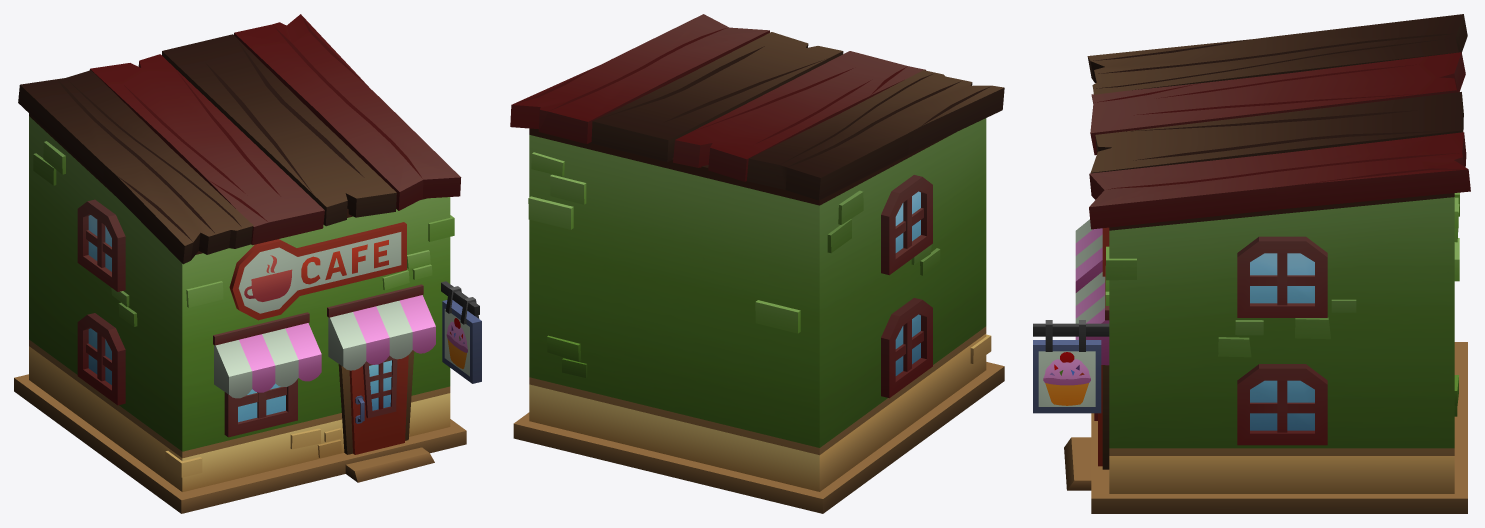
Rendered from Shop_Cafe.fbx.
3 renders of one model, left to right at view 1: azimuth 30°, elevation 25°; view 2: azimuth 150°, elevation 25°; view 3: azimuth 270°, elevation 25°, orthographic. The views are drawn at different scales.
Parts seen in each view (by area): view 1: Shop_Cafe; view 2: Shop_Cafe; view 3: Shop_Cafe.
Part boxes in pixels (bbox=[...]): Shop_Cafe: bbox=[14, 14, 481, 513]; Shop_Cafe: bbox=[510, 14, 1004, 513]; Shop_Cafe: bbox=[1033, 14, 1470, 513].
Bounding box in the file's own units: 609 × 623 × 716.
